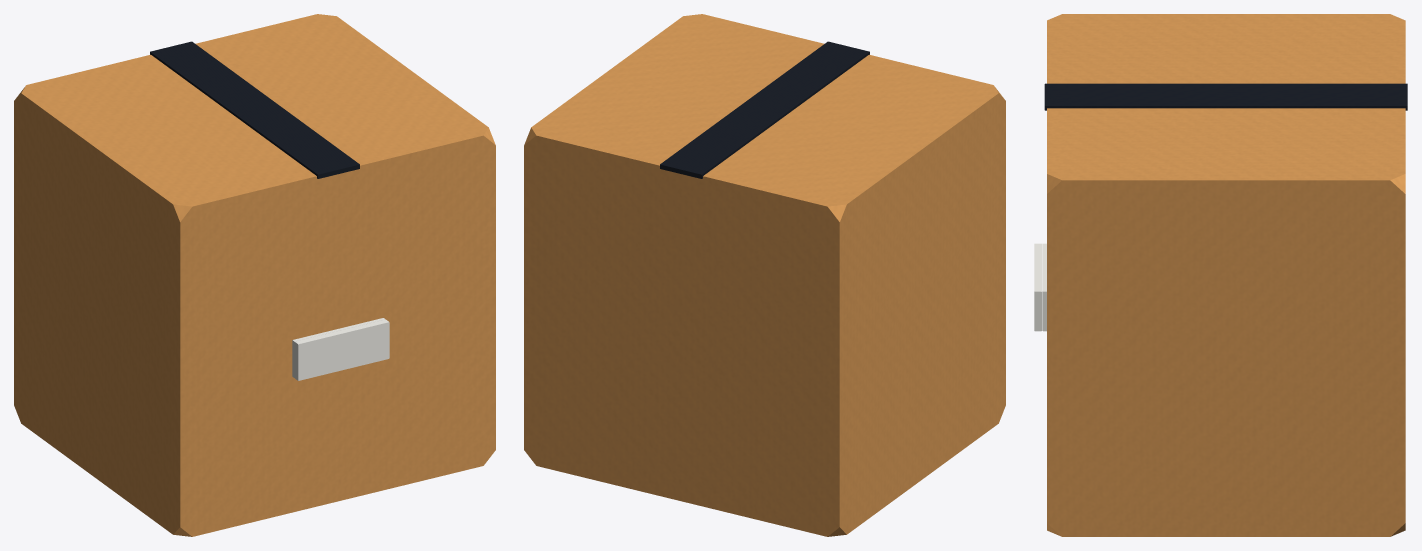
Rendered from 04_cardboard_box_closed.glb.
3 renders of one model, left to right at view 1: azimuth 30°, elevation 25°; view 2: azimuth 150°, elevation 25°; view 3: azimuth 270°, elevation 25°, orthographic. The views are drawn at different scales.
Parts seen in each view (by area): view 1: 04_cardboard_box_closed_Intact; view 2: 04_cardboard_box_closed_Intact; view 3: 04_cardboard_box_closed_Intact.
Part boxes in pixels (left/top/right/bottom): 04_cardboard_box_closed_Intact: left=14, top=14, right=495, bottom=536; 04_cardboard_box_closed_Intact: left=524, top=14, right=1005, bottom=536; 04_cardboard_box_closed_Intact: left=1034, top=14, right=1407, bottom=536.
Size of the model in its own units: 0.4251 by 0.428 by 0.4034.
Materials: 3 (2 with a texture image).
